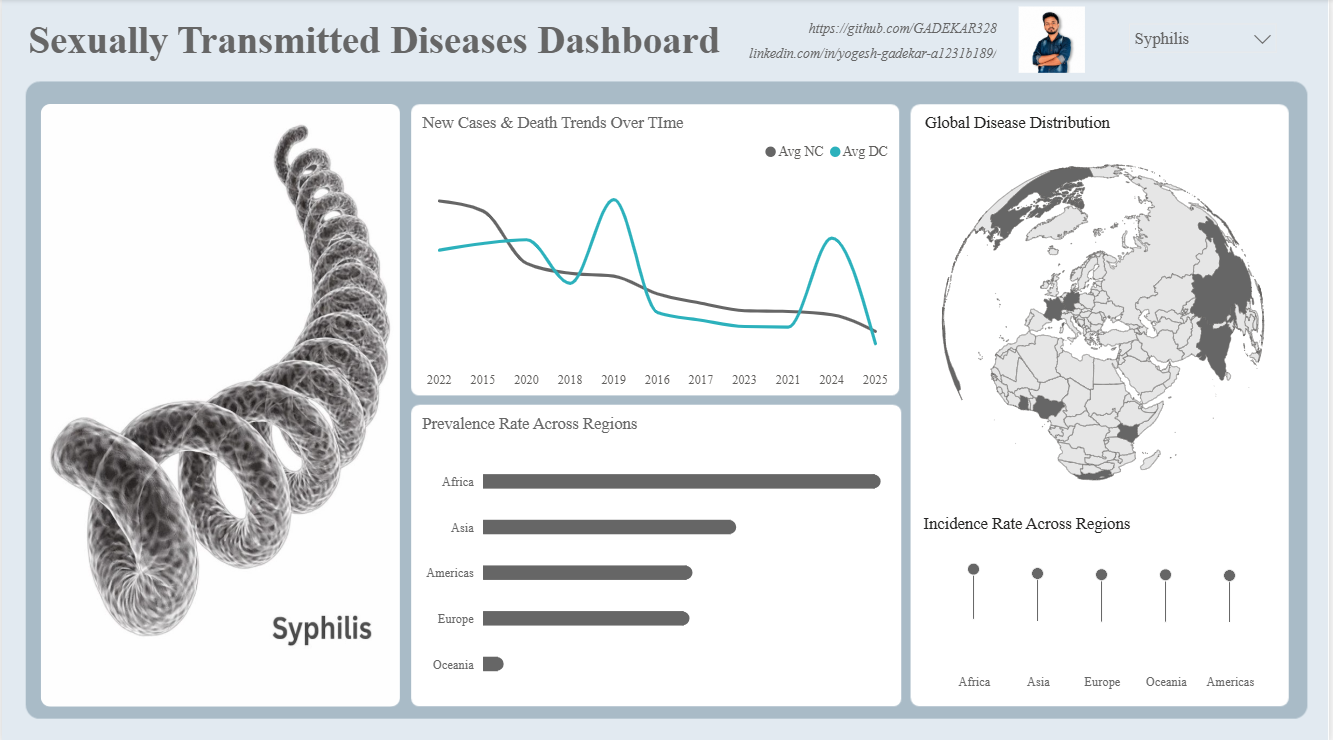

The dashboard page shown, as its layout file describes it:
{"tool":"powerbi","page":{"name":"Page 1","canvas":[1280,720],"ordinal":0},"visuals":[{"type":"slicer","fields":{"Values":["Health Image Dataset.Disease"]},"box":[1077.4,13.3,162.9,55.5],"z":0},{"type":"image","box":[37.4,101.3,346.2,581.5],"z":1000},{"type":"lineChart","title":"New Cases & Death Trends Over TIme","fields":{"Category":["Health Dataset.Year"],"Y":["Avg(Health Dataset.New_Cases)"],"Y2":["Avg(Health Dataset.Deaths)"]},"box":[400.5,109.8,464.5,272.7],"z":2000},{"type":"clusteredBarChart","title":"Prevalence Rate Across Regions","fields":{"Category":["Health Dataset.Region"],"Y":["Avg(Health Dataset.Prevalence_Rate)"]},"box":[400.5,400.5,464.5,282.3],"z":3000},{"type":"shapeMap","title":"Global Disease Distribution","fields":{"Category":["Health Dataset.Country"]},"box":[885.5,109.8,354.7,387.3],"z":3001},{"type":"textbox","box":[20.5,13.3,705.8,55.5],"z":3002},{"type":"clusteredColumnChart","title":"Incidence Rate Across Regions","fields":{"Category":["Health Dataset.Region"],"Y":["Avg(Health Dataset.Incidence_Rate)"]},"box":[884.3,497.1,355.9,177.3],"z":3003},{"type":"image","box":[974.8,7.2,77.2,63.9],"z":3004},{"type":"textbox","box":[714.2,37.4,250.9,31.4],"z":3005},{"type":"textbox","box":[766.1,13.3,199.1,31.4],"z":3006}]}

Visuals, with their boxes in screenshot pixels (x1, y1, x2, y2), scaled from the page's 1280x720 canvas onto the 1333x740 screenshot:
slicer - Health Image Dataset.Disease: (1122, 14, 1292, 71)
image: (39, 104, 399, 702)
"New Cases & Death Trends Over TIme" lineChart: (417, 113, 901, 393)
"Prevalence Rate Across Regions" clusteredBarChart: (417, 412, 901, 702)
"Global Disease Distribution" shapeMap: (922, 113, 1292, 511)
textbox: (21, 14, 756, 71)
"Incidence Rate Across Regions" clusteredColumnChart: (921, 511, 1292, 693)
image: (1015, 7, 1096, 73)
textbox: (744, 38, 1005, 71)
textbox: (798, 14, 1005, 46)
